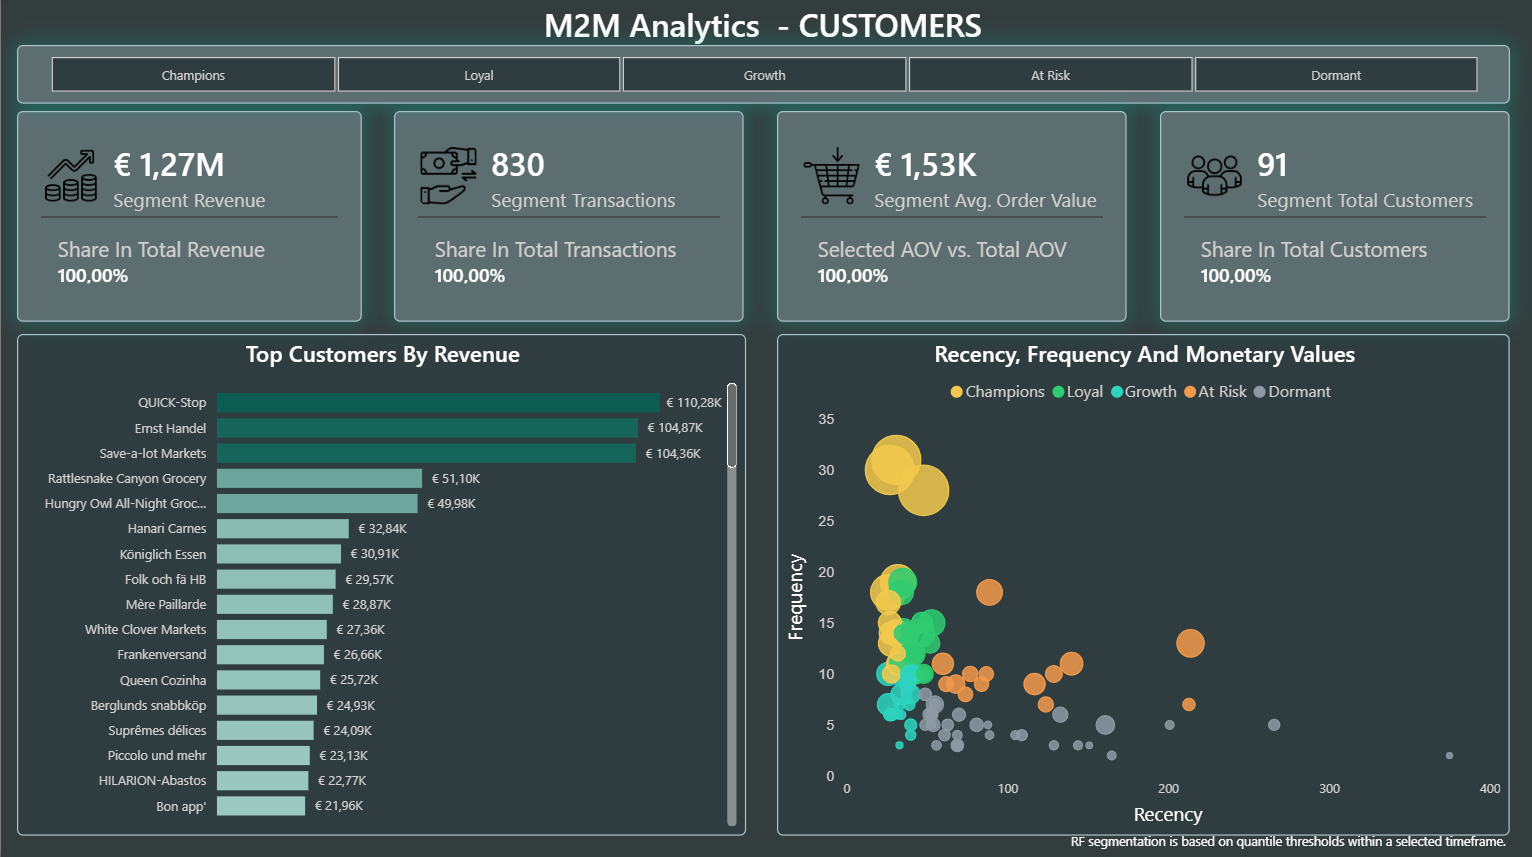

Layout of this report page (visuals, bound fields, positions):
{"tool":"powerbi","page":{"name":"Customers","canvas":[1280,720],"ordinal":2},"visuals":[{"type":"cardVisual","fields":{"Data":["Metrics.Total_Revenue"]},"box":[13,96.3,288.1,176.1],"z":0,"group":"g1"},{"type":"cardVisual","fields":{"Data":["Measurements.Total_Transactions"]},"box":[328.6,96.3,292.2,176.1],"z":0},{"type":"textbox","box":[425.5,0,543.7,45.6],"z":1000},{"type":"clusteredBarChart","title":"Top Customers By Revenue","fields":{"Y":["Metrics.Total_Revenue"],"Category":["Musteri SQL.Musteri_Adi"]},"box":[13.3,282.6,609.3,419.4],"z":2000},{"type":"group","id":"g1","title":"Group 1","box":[13,96.3,288.1,176.1],"z":3000},{"type":"slicer","fields":{"Values":["Segments.Segment"]},"box":[13,41,1247.2,49.2],"z":4000},{"type":"scatterChart","title":"Recency, Frequency And Monetary Values","fields":{"Y":["Measurements.Frequency"],"X":["Measurements.Recency"],"Category":["Musteri SQL.Musteri_Adi"],"Size":["Measurements.Total_Revenue"],"Series":["Segments.Segment"]},"box":[648.4,282.6,612.3,419.4],"z":5000},{"type":"cardVisual","fields":{"Data":["Measurements.Avg_Basket_Size"]},"box":[648.3,96.3,292.2,176.1],"z":6000},{"type":"cardVisual","fields":{"Data":["Measurements.Customer_Count"]},"box":[968,96.3,292.2,176.1],"z":7000},{"type":"textbox","box":[888.9,693.6,382.7,26.5],"z":8000}]}

Visuals, with their boxes in screenshot pixels (x1, y1, x2, y2), scaled from the page's 1280x720 canvas onto the 1532x857 screenshot:
cardVisual - Metrics.Total_Revenue: (x1=16, y1=115, x2=360, y2=324)
cardVisual - Measurements.Total_Transactions: (x1=393, y1=115, x2=743, y2=324)
textbox: (x1=509, y1=0, x2=1160, y2=54)
"Top Customers By Revenue" clusteredBarChart: (x1=16, y1=336, x2=745, y2=836)
"Group 1" group: (x1=16, y1=115, x2=360, y2=324)
slicer - Segments.Segment: (x1=16, y1=49, x2=1508, y2=107)
"Recency, Frequency And Monetary Values" scatterChart: (x1=776, y1=336, x2=1509, y2=836)
cardVisual - Measurements.Avg_Basket_Size: (x1=776, y1=115, x2=1126, y2=324)
cardVisual - Measurements.Customer_Count: (x1=1159, y1=115, x2=1508, y2=324)
textbox: (x1=1064, y1=826, x2=1522, y2=856)
